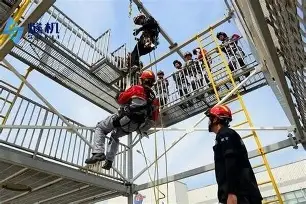safety belt: (126, 85, 159, 134), (139, 21, 159, 42)
